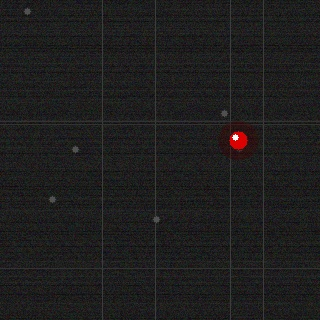red_fault: (227, 129, 249, 151)
